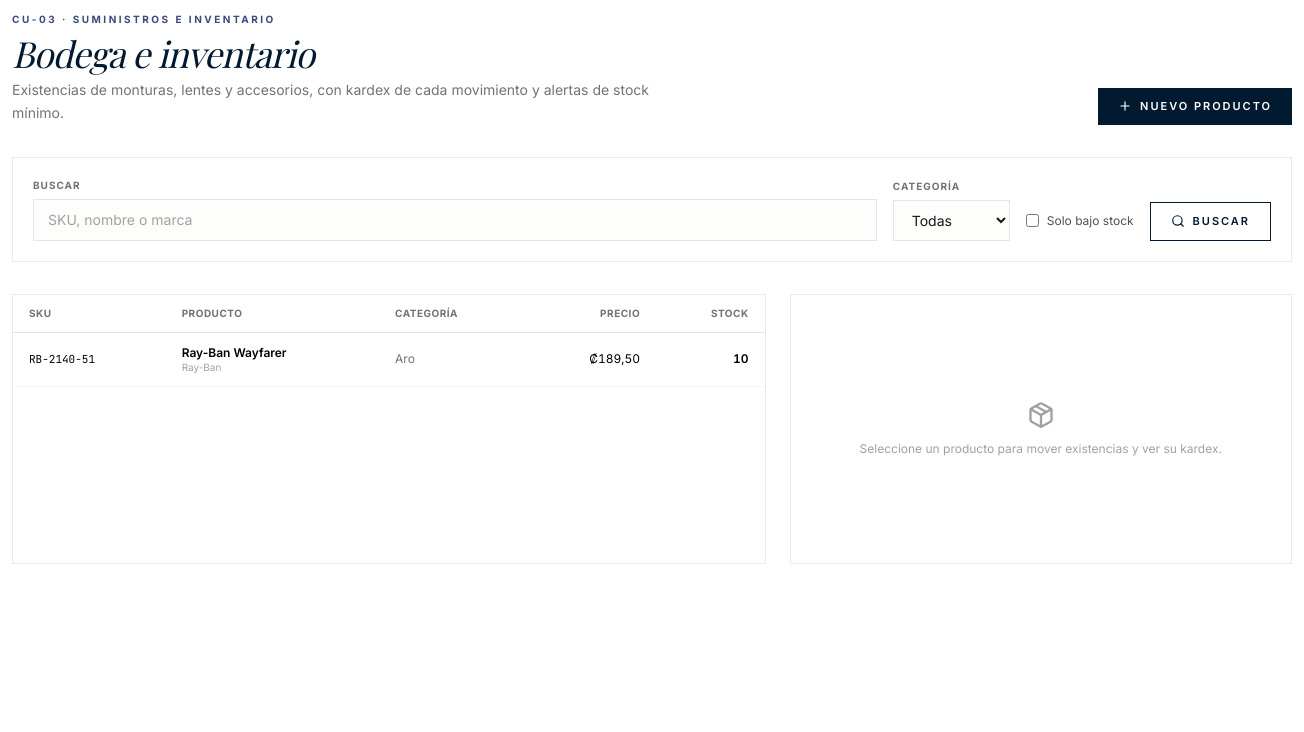
InventarioPage › el botón de cerrar oculta el detalle
Click the text "Ray-Ban Wayfarer" at (234, 352), box [182, 345, 287, 360]
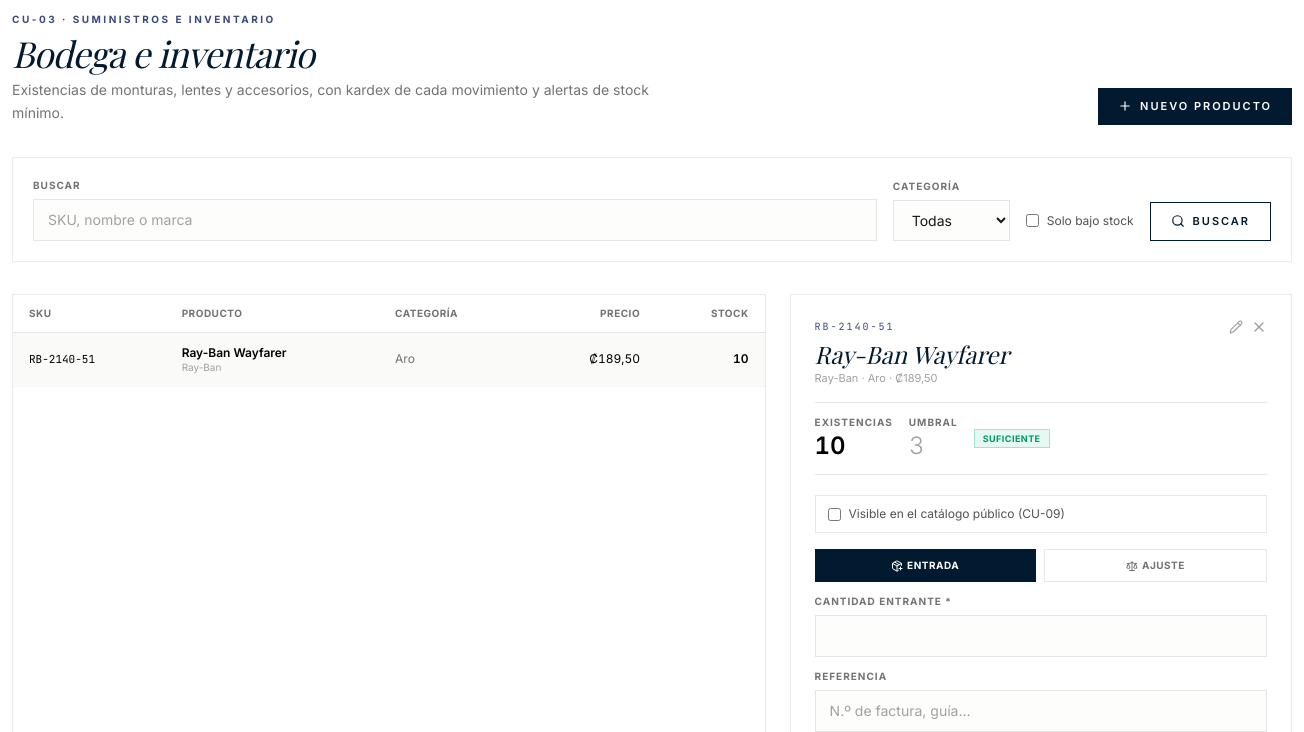
Click the button named "Cerrar detalle" at (1259, 326), box [1251, 318, 1267, 334]
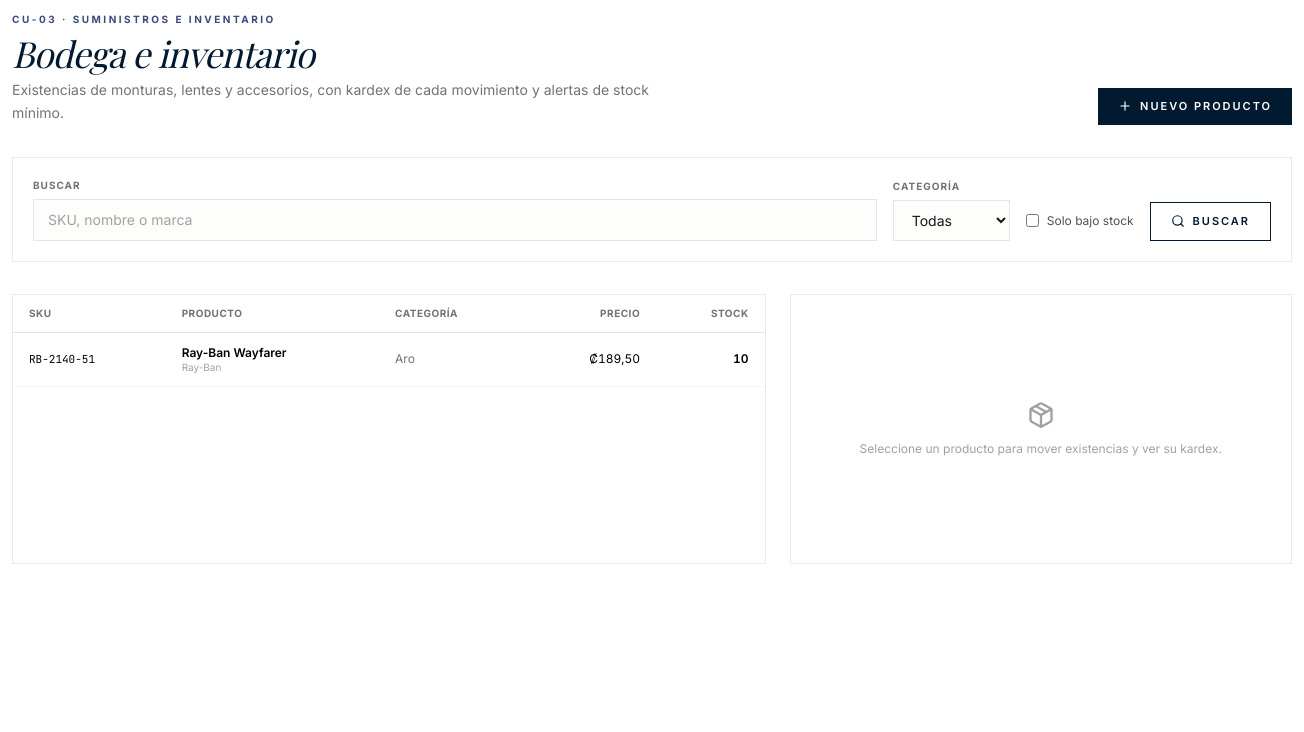
Expected: the text "Seleccione un producto para mover existencias y ver su kardex." is shown, [860, 440, 1222, 456]
